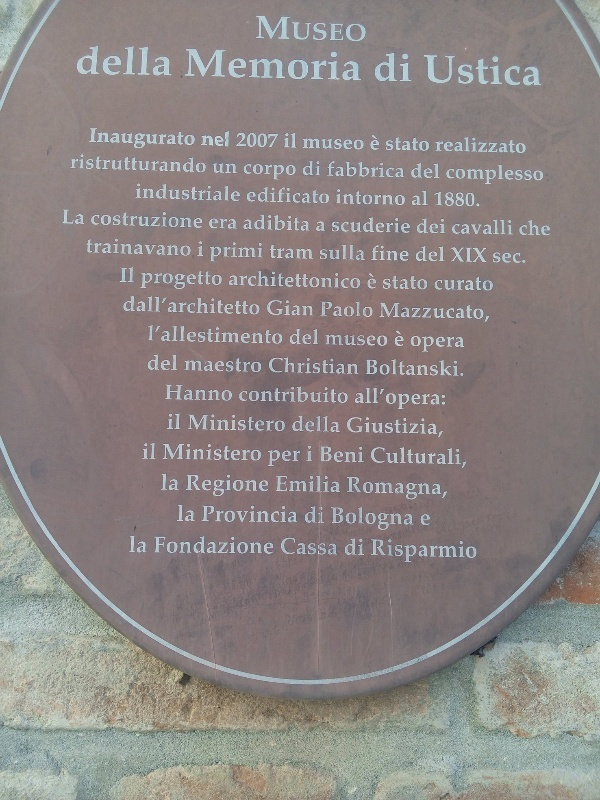text: (433, 52, 448, 89), (449, 52, 464, 89), (465, 52, 480, 89), (481, 52, 496, 89), (497, 52, 512, 89), (513, 52, 528, 89), (193, 48, 208, 83), (209, 48, 224, 83), (225, 48, 240, 83), (241, 48, 256, 83), (257, 48, 272, 83), (273, 48, 288, 83), (289, 48, 304, 83), (305, 48, 320, 83), (321, 48, 336, 83), (337, 48, 352, 83), (529, 52, 543, 89), (385, 51, 400, 85), (81, 46, 96, 79), (97, 46, 112, 79), (113, 46, 128, 79), (129, 46, 144, 79), (145, 46, 160, 79), (353, 476, 368, 504), (369, 476, 384, 504), (385, 476, 400, 504), (401, 476, 416, 504), (417, 476, 432, 504), (433, 476, 448, 504), (401, 51, 413, 85), (257, 15, 272, 42), (273, 15, 288, 42), (289, 15, 304, 42), (305, 15, 320, 42), (321, 15, 336, 42), (337, 15, 352, 42), (385, 538, 400, 564), (401, 538, 416, 564), (417, 538, 432, 564), (433, 538, 448, 564), (449, 538, 464, 564), (369, 387, 384, 412), (385, 387, 400, 412), (401, 387, 416, 412), (417, 387, 432, 412), (385, 445, 400, 470), (401, 445, 416, 470), (417, 445, 432, 470), (433, 445, 448, 470), (449, 445, 464, 470), (337, 506, 352, 531), (353, 506, 368, 531), (369, 506, 384, 531), (385, 506, 400, 531), (193, 473, 208, 498), (209, 473, 224, 498), (225, 473, 240, 498), (241, 473, 256, 498), (465, 538, 479, 564), (161, 46, 172, 79), (97, 128, 112, 152), (113, 128, 128, 152), (129, 128, 144, 152), (145, 128, 160, 152), (161, 128, 176, 152), (177, 128, 192, 152), (353, 15, 366, 42), (401, 506, 415, 531), (225, 241, 240, 264), (241, 241, 256, 264), (374, 51, 384, 85), (371, 538, 384, 564), (449, 164, 464, 186), (465, 164, 480, 186), (481, 164, 496, 186), (497, 164, 512, 186), (513, 164, 528, 186), (529, 164, 544, 186), (145, 270, 160, 292), (161, 270, 176, 292), (177, 270, 192, 292), (193, 270, 208, 292), (385, 302, 400, 324), (401, 302, 416, 324), (417, 302, 432, 324), (433, 302, 448, 324), (449, 302, 464, 324), (465, 302, 480, 324), (353, 417, 368, 439), (369, 417, 384, 439), (385, 417, 400, 439), (401, 417, 416, 439), (417, 417, 432, 439), (129, 295, 144, 317), (145, 295, 160, 317), (161, 295, 176, 317), (177, 295, 192, 317), (193, 295, 208, 317), (209, 295, 224, 317), (225, 295, 240, 317), (241, 295, 256, 317), (355, 387, 368, 412), (433, 387, 446, 412), (371, 445, 384, 470), (210, 241, 224, 264), (225, 183, 241, 203), (449, 335, 465, 355), (353, 48, 362, 83), (97, 236, 112, 257), (113, 236, 128, 257), (129, 236, 144, 257), (145, 236, 160, 257), (161, 236, 176, 257), (161, 325, 176, 346), (177, 325, 192, 346), (193, 325, 208, 346), (209, 325, 224, 346), (225, 325, 240, 346), (241, 325, 256, 346), (257, 325, 272, 346), (449, 135, 464, 155), (465, 135, 480, 155), (481, 135, 496, 155), (497, 135, 512, 155), (241, 270, 256, 290), (257, 270, 272, 290), (273, 270, 288, 290), (289, 270, 304, 290), (305, 270, 320, 290), (321, 270, 336, 290), (337, 270, 352, 290), (145, 183, 160, 203), (161, 183, 176, 203), (177, 183, 192, 203), (193, 183, 208, 203), (209, 183, 224, 203), (81, 153, 96, 173), (97, 153, 112, 173), (113, 153, 128, 173), (129, 153, 144, 173), (145, 153, 160, 173), (161, 153, 176, 173), (177, 153, 192, 173), (417, 335, 432, 355), (433, 335, 448, 355), (289, 536, 304, 556), (305, 536, 320, 556), (321, 536, 336, 556), (257, 473, 269, 498), (161, 536, 176, 556), (177, 536, 192, 556), (193, 536, 208, 556), (209, 536, 224, 556), (225, 536, 240, 556), (241, 536, 256, 556), (257, 536, 272, 556), (424, 52, 432, 89), (177, 236, 191, 257), (209, 270, 222, 292), (337, 160, 352, 179), (353, 160, 368, 179), (369, 160, 384, 179), (385, 160, 400, 179), (337, 188, 352, 207), (353, 188, 368, 207), (369, 188, 384, 207), (385, 188, 400, 207), (257, 186, 272, 205), (273, 186, 288, 205), (289, 186, 304, 205), (305, 186, 320, 205), (321, 301, 336, 320), (337, 301, 352, 320), (353, 301, 368, 320), (193, 414, 208, 433), (209, 414, 224, 433), (225, 414, 240, 433), (241, 414, 256, 433), (257, 414, 272, 433), (289, 474, 304, 493), (305, 474, 320, 493), (321, 474, 336, 493), (273, 450, 288, 469), (209, 505, 224, 524), (225, 505, 240, 524), (241, 505, 256, 524), (257, 505, 272, 524), (273, 505, 288, 524), (193, 153, 207, 173), (529, 219, 544, 237), (465, 246, 480, 264), (417, 245, 432, 263), (417, 162, 432, 180), (385, 244, 400, 262), (257, 214, 272, 232), (273, 214, 288, 232), (289, 214, 304, 232), (241, 131, 256, 149), (257, 131, 272, 149), (209, 130, 224, 148), (369, 359, 384, 377), (385, 359, 400, 377), (401, 359, 416, 377), (417, 359, 432, 377), (433, 359, 448, 377), (449, 359, 464, 377), (273, 299, 288, 317), (289, 299, 304, 317), (273, 357, 288, 375), (289, 357, 304, 375), (305, 357, 320, 375), (321, 357, 336, 375), (337, 357, 352, 375), (305, 415, 320, 433), (321, 415, 336, 433), (241, 387, 256, 405), (257, 387, 272, 405), (273, 387, 288, 405), (289, 387, 304, 405), (305, 387, 320, 405), (321, 387, 336, 405), (177, 384, 192, 402), (193, 384, 208, 402), (209, 384, 224, 402), (161, 354, 176, 372), (321, 445, 336, 463), (337, 445, 352, 463), (306, 505, 320, 524), (130, 535, 144, 554), (435, 135, 448, 155), (513, 135, 526, 155), (449, 191, 464, 208), (465, 191, 480, 208), (465, 219, 480, 236), (481, 219, 496, 236), (497, 219, 512, 236), (385, 274, 400, 291), (401, 274, 416, 291), (337, 217, 352, 234), (353, 217, 368, 234), (369, 217, 384, 234), (385, 217, 400, 234), (321, 244, 336, 261), (337, 244, 352, 261), (305, 160, 320, 177), (257, 164, 272, 181), (273, 164, 288, 181), (97, 211, 112, 228), (113, 211, 128, 228), (129, 211, 144, 228), (145, 211, 160, 228), (161, 211, 176, 228), (177, 211, 192, 228), (65, 208, 80, 225), (177, 444, 192, 461), (193, 444, 208, 461), (209, 444, 224, 461), (225, 444, 240, 461), (241, 444, 256, 461), (290, 328, 304, 346), (305, 328, 319, 346), (148, 325, 160, 346), (178, 505, 192, 523), (162, 473, 176, 491), (433, 417, 444, 439), (417, 218, 432, 234), (273, 244, 288, 260), (289, 244, 304, 260), (193, 358, 208, 374), (209, 358, 224, 374), (225, 358, 240, 374), (241, 358, 256, 374), (434, 191, 448, 208), (451, 246, 464, 264), (273, 325, 284, 346), (273, 414, 285, 433), (353, 537, 365, 556), (276, 474, 288, 493), (289, 450, 301, 469), (401, 137, 416, 152), (370, 135, 384, 151), (353, 244, 366, 261), (307, 445, 320, 462), (433, 245, 445, 263), (417, 189, 429, 207), (372, 244, 384, 262), (353, 445, 365, 463), (186, 48, 192, 83), (449, 277, 464, 291), (465, 277, 480, 291), (386, 137, 400, 152), (305, 137, 320, 151), (321, 137, 336, 151), (337, 137, 352, 151), (86, 236, 96, 257), (337, 334, 352, 348), (353, 334, 368, 348), (369, 334, 384, 348), (433, 218, 446, 234), (452, 219, 464, 236), (244, 164, 256, 181), (164, 444, 176, 461), (245, 214, 256, 232), (481, 302, 490, 324), (293, 415, 304, 433), (337, 387, 348, 405), (149, 354, 160, 372), (145, 442, 156, 460), (497, 251, 512, 264), (417, 274, 428, 291), (435, 277, 448, 291), (210, 217, 224, 230), (417, 137, 429, 152), (231, 270, 240, 290), (166, 384, 176, 402), (327, 160, 336, 179), (321, 186, 330, 205), (289, 505, 298, 524), (198, 240, 208, 257), (193, 211, 203, 228), (513, 251, 526, 264), (225, 217, 238, 230), (481, 277, 493, 291), (519, 219, 528, 237), (305, 299, 314, 317), (167, 413, 176, 431), (257, 241, 264, 264), (353, 270, 361, 290), (136, 183, 144, 203), (72, 153, 80, 173), (225, 162, 238, 174), (353, 137, 364, 151), (325, 334, 336, 348), (401, 217, 410, 234), (248, 186, 256, 205), (186, 473, 192, 498), (369, 272, 377, 290), (401, 244, 409, 262), (305, 244, 314, 260), (90, 128, 96, 152), (225, 384, 233, 402), (421, 514, 432, 527), (347, 476, 352, 504), (289, 132, 297, 149), (345, 537, 352, 556), (213, 162, 224, 174), (120, 267, 128, 283), (433, 162, 440, 180), (201, 130, 208, 148), (331, 506, 336, 531), (282, 536, 288, 556), (289, 164, 296, 181), (202, 505, 208, 524), (185, 358, 192, 374), (379, 302, 384, 324), (347, 417, 352, 439), (481, 246, 487, 264), (273, 131, 279, 149), (353, 357, 359, 375), (411, 335, 416, 355), (155, 536, 160, 556), (129, 267, 135, 283), (257, 358, 263, 374), (545, 219, 550, 237), (411, 162, 416, 180), (305, 214, 310, 232), (225, 130, 230, 148), (395, 330, 400, 348), (124, 295, 128, 317), (257, 295, 261, 317), (401, 160, 405, 179), (401, 188, 405, 207), (369, 301, 373, 320), (321, 505, 325, 524), (337, 474, 341, 493), (412, 189, 416, 207), (193, 128, 196, 152), (268, 299, 272, 317), (337, 415, 341, 433), (177, 413, 181, 431), (332, 217, 336, 234), (284, 132, 288, 149), (92, 211, 96, 228), (81, 208, 85, 225), (257, 444, 261, 461), (141, 270, 144, 292), (321, 220, 326, 232), (189, 414, 192, 433), (269, 450, 272, 469), (145, 535, 148, 554), (237, 131, 240, 149), (401, 330, 404, 348), (269, 357, 272, 375), (193, 505, 196, 523), (465, 445, 467, 470), (337, 536, 339, 556), (493, 251, 496, 264), (317, 220, 320, 232), (366, 359, 368, 377), (177, 473, 179, 491), (62, 208, 64, 225), (79, 46, 80, 79), (270, 244, 272, 260), (385, 334, 387, 348), (447, 164, 448, 186), (273, 536, 274, 556), (335, 188, 336, 207), (177, 354, 178, 372), (143, 442, 144, 460), (513, 219, 514, 236), (383, 274, 384, 291), (303, 160, 304, 177), (321, 160, 322, 177), (303, 137, 304, 151)
